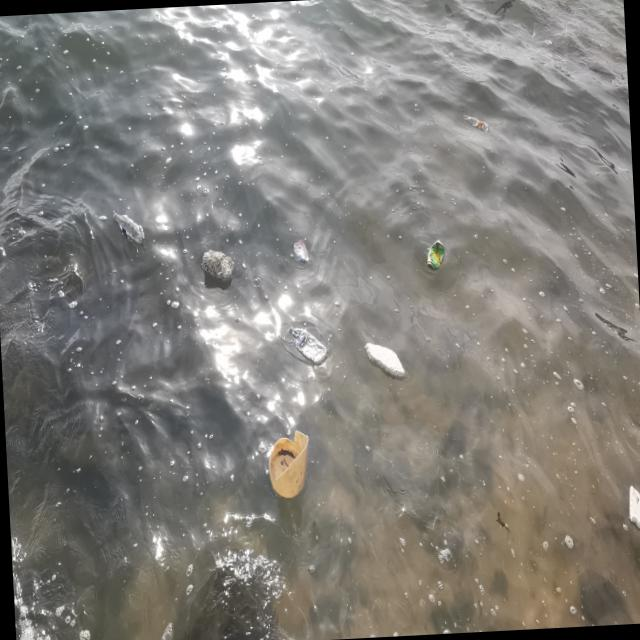can: (426, 238, 446, 272)
foam: (364, 340, 406, 380), (200, 246, 236, 284), (627, 482, 640, 537)
plastic: (289, 323, 329, 368), (112, 209, 146, 246), (463, 110, 492, 136)
plastic bottle: (266, 427, 312, 499)
unknow: (294, 240, 310, 266)
